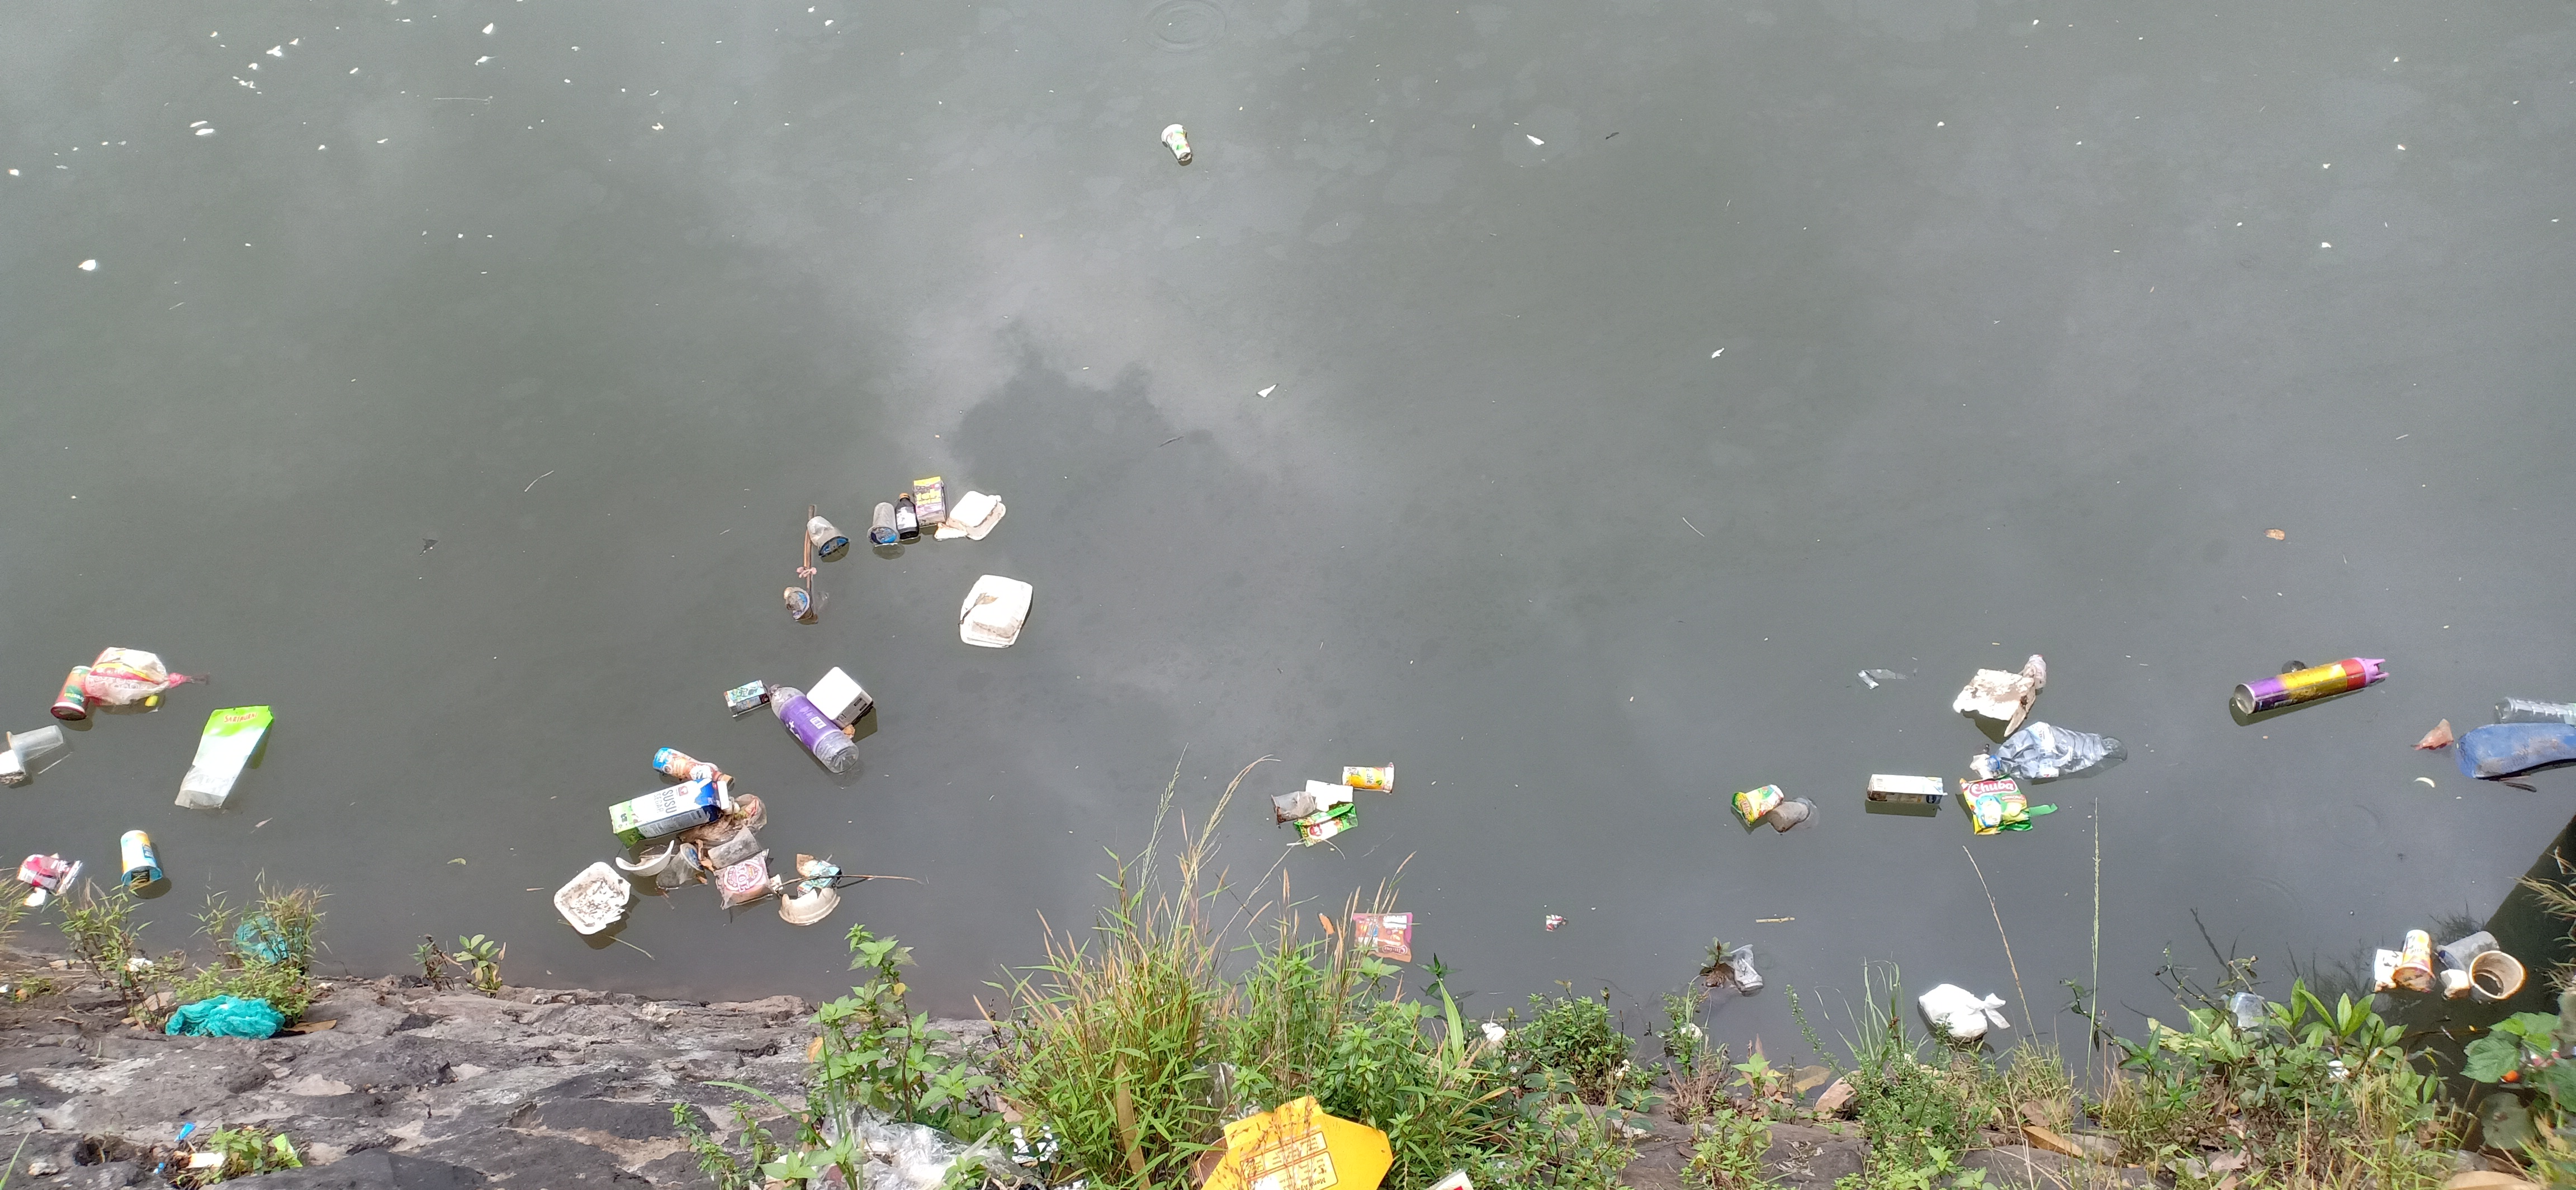Plastic Bottle: (1985, 722, 2127, 779), (771, 684, 859, 774), (652, 746, 733, 784), (2495, 697, 2576, 723), (895, 493, 920, 539), (2022, 654, 2045, 689)
